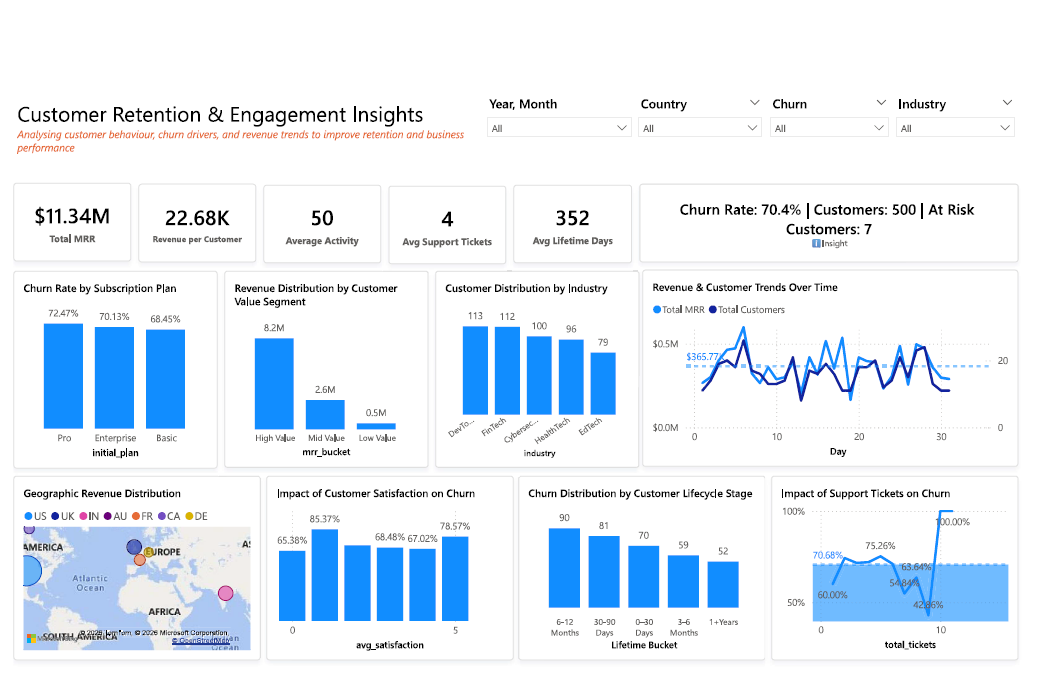

The dashboard page shown, as its layout file describes it:
{"tool":"powerbi","page":{"name":"Customer Insights","canvas":[1280,720],"ordinal":0},"visuals":[{"type":"card","fields":{"Values":["Calculations.Total MRR"]},"box":[0,112.6,150,100.3],"z":0},{"type":"card","fields":{"Values":["Calculations.Avg Activity"]},"box":[318.3,114.4,149.8,100.3],"z":1000},{"type":"card","fields":{"Values":["Calculations.Revenue per Customer"]},"box":[159.3,113,149.8,100.3],"z":2000},{"type":"clusteredColumnChart","title":"Churn Rate by Subscription Plan","fields":{"Category":["data.initial_plan"],"Y":["Calculations.Churn Rate"]},"box":[0,223.7,260,251.8],"z":3000},{"type":"map","title":"Geographic Revenue Distribution","fields":{"Category":["data.country"],"Size":["Calculations.Total MRR"],"Series":["data.country"]},"box":[0,484.6,315,235.4],"z":4000},{"type":"clusteredColumnChart","title":"Revenue Distribution by Customer Value Segment","fields":{"Category":["data.mrr_bucket"],"Y":["Sum(data.total_mrr)"]},"box":[268.5,223.9,260,251.3],"z":5000},{"type":"clusteredColumnChart","title":"Customer Distribution by Industry","fields":{"Category":["data.industry"],"Y":["Calculations.Total Customers"]},"box":[537,223.9,260,251.3],"z":6000},{"type":"lineChart","title":"Revenue & Customer Trends Over Time","fields":{"Y":["Calculations.Total MRR"],"Category":["Date.signup_date.Variation.Date Hierarchy.Day"],"Y2":["Calculations.Total Customers"]},"box":[801.1,223.2,478.9,251.5],"z":7000},{"type":"clusteredColumnChart","title":"Churn Distribution by Customer Lifecycle Stage","fields":{"Category":["data.Lifetime Bucket"],"Y":["Calculations.Churned Customers"]},"box":[643.5,484.6,315,235.4],"z":8000},{"type":"lineChart","title":"Impact of Support Tickets on Churn","fields":{"Category":["data.total_tickets"],"Y":["Calculations.Churn Rate"]},"box":[965.3,485.1,314.7,235.1],"z":9000},{"type":"clusteredColumnChart","title":"Impact of Customer Satisfaction on Churn","fields":{"Category":["data.avg_satisfaction"],"Y":["Calculations.Churn Rate"]},"box":[321.8,484.6,315,235.4],"z":10000},{"type":"card","fields":{"Values":["Calculations.Avg Tickets"]},"box":[477.3,115.8,149.8,100.3],"z":11000},{"type":"card","fields":{"Values":["Calculations.Avg Lifetime Days"]},"box":[636.4,114.4,151.2,100.3],"z":12000},{"type":"slicer","fields":{"Values":["Date.signup_date.Variation.Date Hierarchy.Year","Date.signup_date.Variation.Date Hierarchy.Month"]},"box":[597.9,0,193.8,82.8],"z":13000},{"type":"slicer","fields":{"Values":["data.country"]},"box":[791.7,0,167.3,82.8],"z":14000},{"type":"slicer","fields":{"Values":["data.churn_flag"]},"box":[959,0,160.7,82.8],"z":15000},{"type":"slicer","fields":{"Values":["data.industry"]},"box":[1119.7,0,160.7,82.8],"z":16000},{"type":"textbox","box":[0,0,597.1,83.3],"z":17000},{"type":"card","fields":{"Values":["Calculations.Insight Text"]},"box":[796.8,113,483.2,100.3],"z":18000}]}

Visuals, with their boxes in screenshot pixels (x1, y1, x2, y2):
card - Calculations.Total MRR: [left=92, top=206, right=208, bottom=284]
card - Calculations.Avg Activity: [left=338, top=208, right=454, bottom=285]
card - Calculations.Revenue per Customer: [left=215, top=207, right=331, bottom=284]
"Churn Rate by Subscription Plan" clusteredColumnChart: [left=92, top=292, right=293, bottom=487]
"Geographic Revenue Distribution" map: [left=92, top=494, right=336, bottom=676]
"Revenue Distribution by Customer Value Segment" clusteredColumnChart: [left=300, top=292, right=501, bottom=486]
"Customer Distribution by Industry" clusteredColumnChart: [left=507, top=292, right=708, bottom=486]
"Revenue & Customer Trends Over Time" lineChart: [left=711, top=292, right=1039, bottom=486]
"Churn Distribution by Customer Lifecycle Stage" clusteredColumnChart: [left=589, top=494, right=833, bottom=676]
"Impact of Support Tickets on Churn" lineChart: [left=838, top=494, right=1039, bottom=676]
"Impact of Customer Satisfaction on Churn" clusteredColumnChart: [left=341, top=494, right=584, bottom=676]
card - Calculations.Avg Tickets: [left=461, top=209, right=577, bottom=286]
card - Calculations.Avg Lifetime Days: [left=584, top=208, right=701, bottom=285]
slicer - Date.signup_date.Variation.Date Hierarchy.Year x Date.signup_date.Variation.Date Hierarchy.Month: [left=554, top=119, right=704, bottom=183]
slicer - data.country: [left=704, top=119, right=833, bottom=183]
slicer - data.churn_flag: [left=833, top=119, right=957, bottom=183]
slicer - data.industry: [left=957, top=119, right=1039, bottom=183]
textbox: [left=92, top=119, right=554, bottom=184]
card - Calculations.Insight Text: [left=708, top=207, right=1039, bottom=284]
